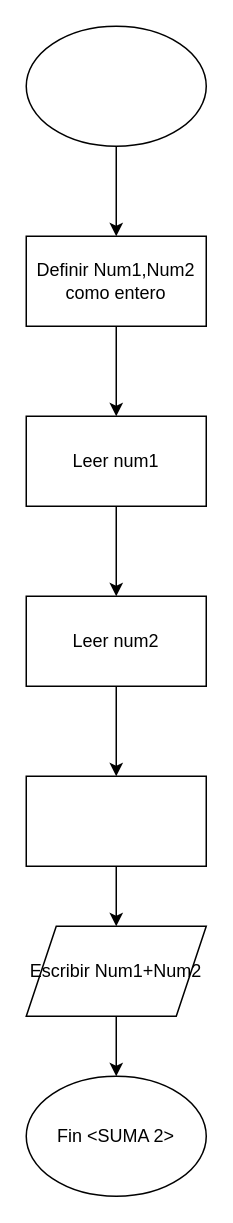
Some shapes in this 233 by 1223 pixel diagram are drawn without their labels. Each missing label, with the box of its shape:
Hacer num1 + Num2: (25, 775, 206, 866)
Inicio<SUMA 2 NÚMEROS>: (25, 25, 206, 146)
